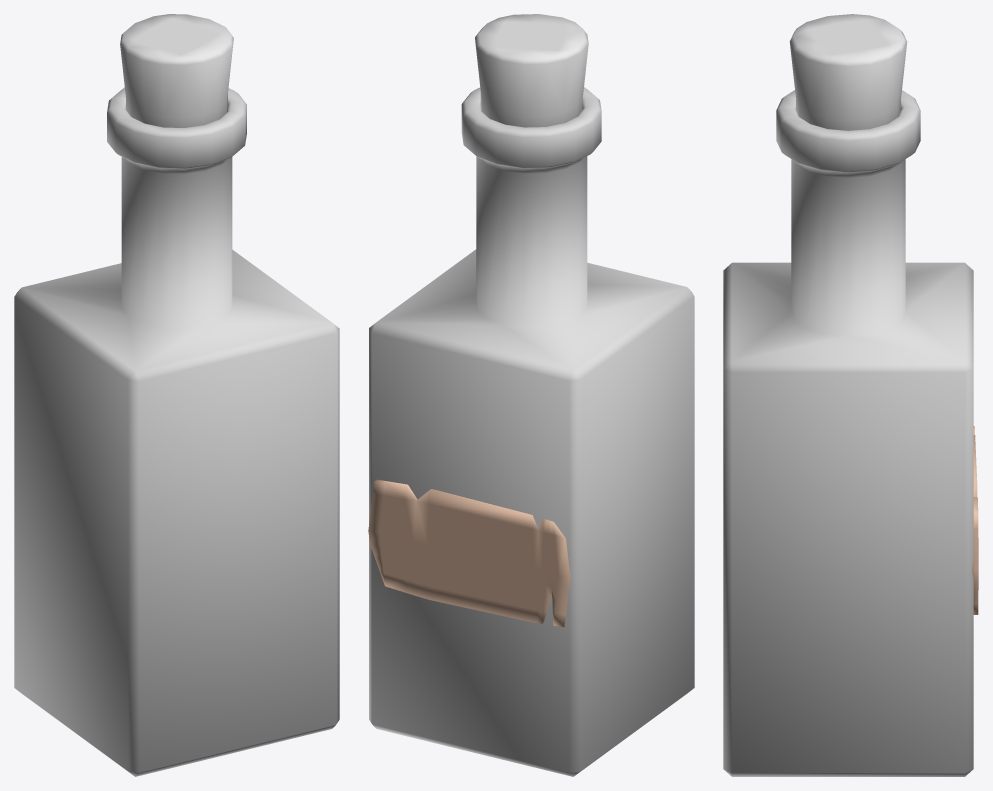
The model's file is Potion3.fbx.
3 views of the same model, side by side, from view 1: azimuth 30°, elevation 25°; view 2: azimuth 150°, elevation 25°; view 3: azimuth 270°, elevation 25° (orthographic). The views are drawn at different scales.
Parts seen in each view (by area): view 1: Potion3; view 2: Potion3; view 3: Potion3.
Part boxes in pixels (x1,y1,x2,y2): Potion3: (14, 14, 339, 776); Potion3: (368, 14, 694, 776); Potion3: (723, 14, 978, 776).
Bounding box in the file's own units: 0.5212 × 1.59 × 0.5316.
